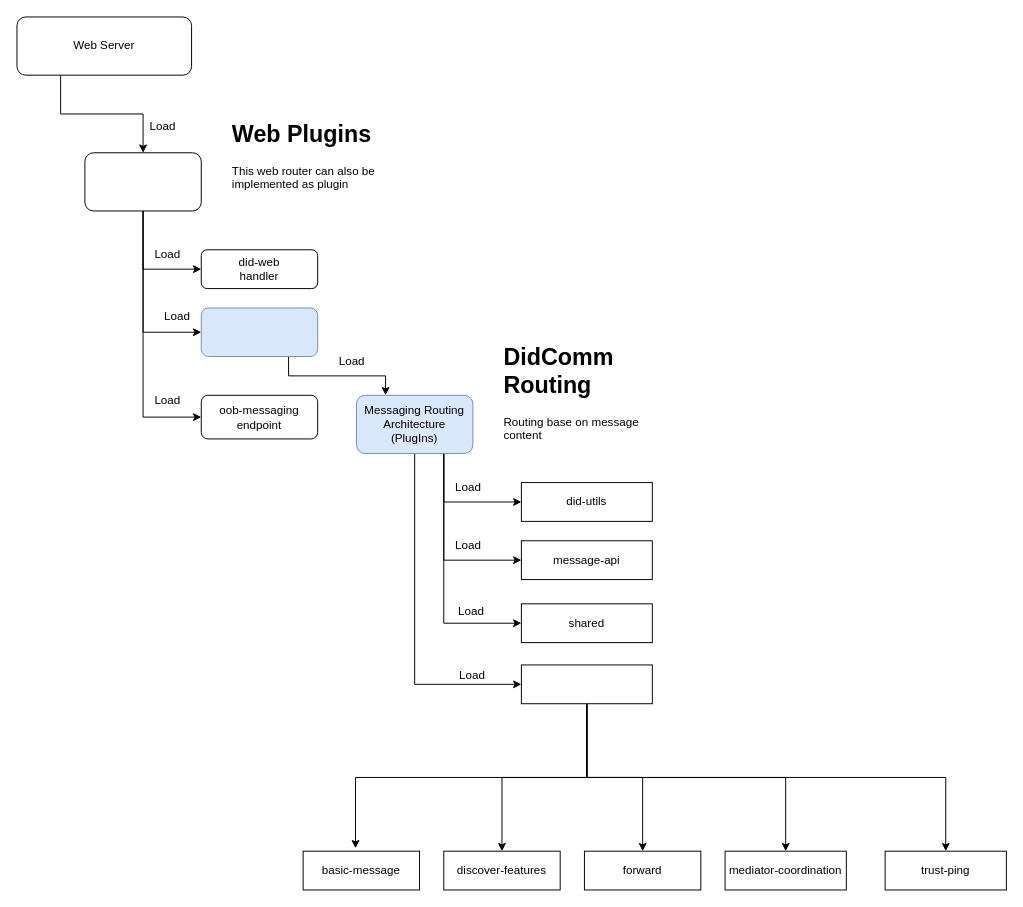
Some shapes in this 1023 by 907 pixel diagram are drawn without their labels. The centre of each missing label's shape, as x and y in pixels:
"Did Comm Messaging Plugins" goes at point 259,331.
"protocols" goes at point 586,684.
"Web Routing Architecture (plugins)" goes at point 142,181.
